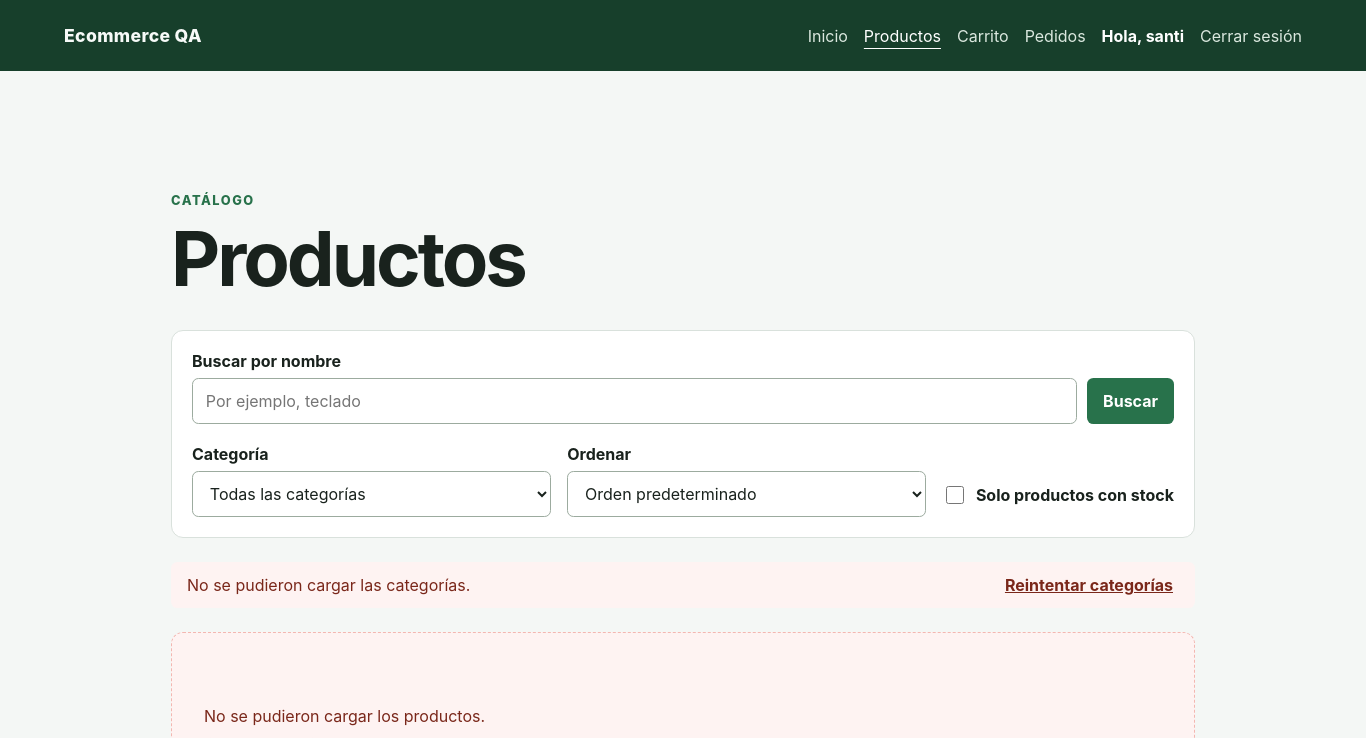
Test: flujo de autenticación › cierra la sesión local y remota
This screenshot has width=1366, height=738.
Click the button "Cerrar sesión": x=1251, y=36 top-left (1200, 20), bottom-right (1302, 51)
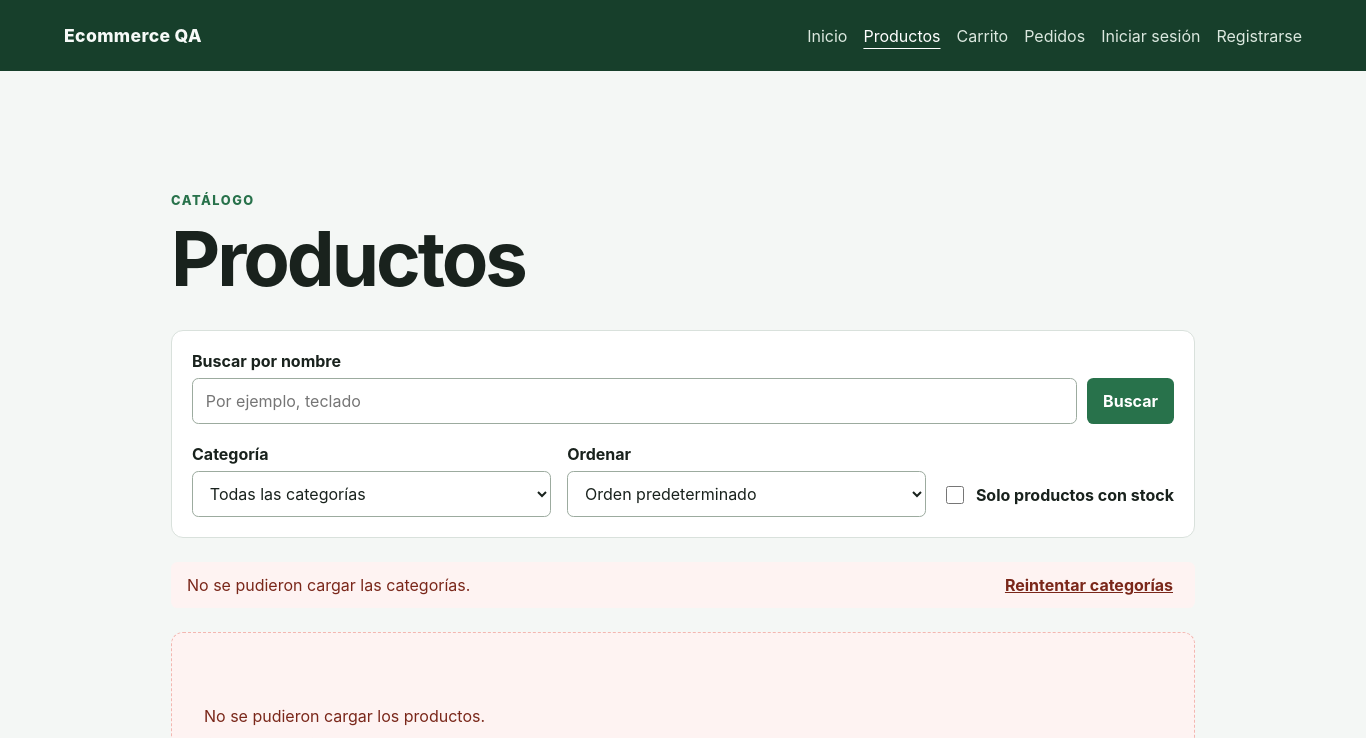
Check: the link "Iniciar sesión" is shown, box top-left (1101, 20), bottom-right (1200, 51)
